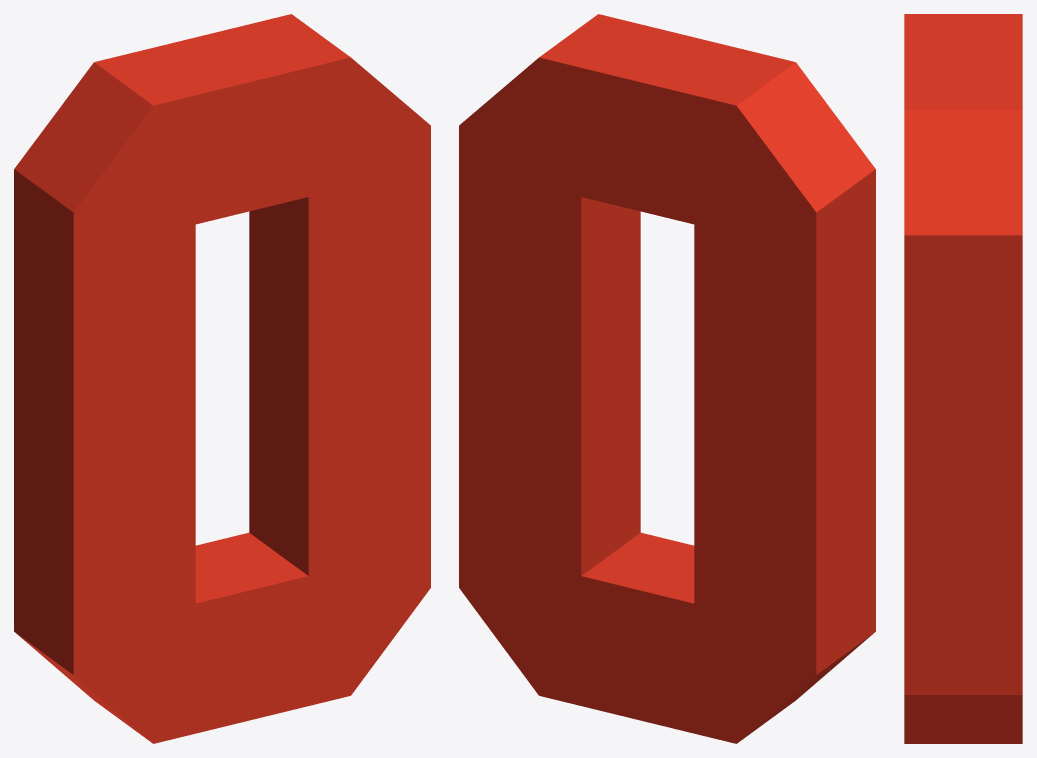
Rendered from Icon_Number_0.fbx.
3 views of the same model, side by side, from view 1: azimuth 30°, elevation 25°; view 2: azimuth 150°, elevation 25°; view 3: azimuth 270°, elevation 25° (orthographic).
Parts seen in each view (by area): view 1: Icon_Number_0; view 2: Icon_Number_0; view 3: Icon_Number_0.
Boxes of the visible parts, x1=… form: Icon_Number_0: x1=14, y1=14, x2=430, y2=743; Icon_Number_0: x1=459, y1=14, x2=875, y2=743; Icon_Number_0: x1=904, y1=14, x2=1022, y2=743.
Bounding box in the file's own units: 41.87 × 71.49 × 12.06.
